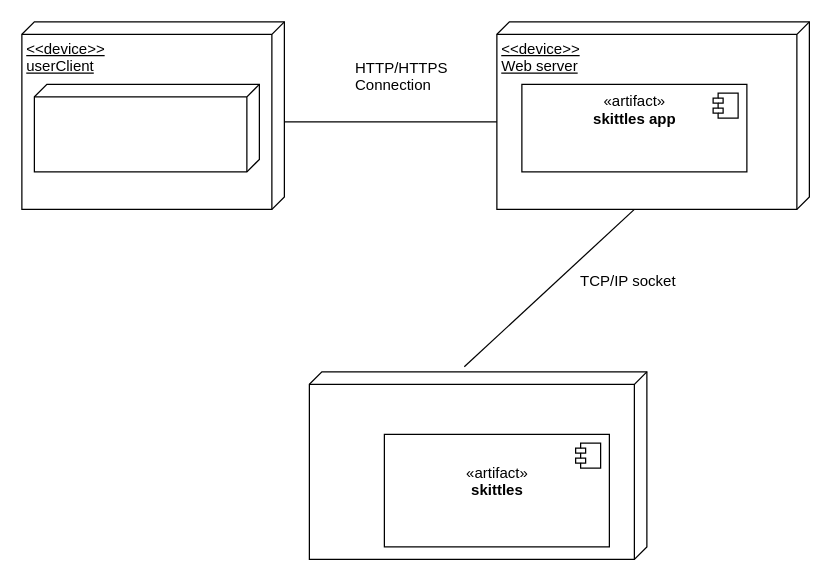
This 831x581 diagram has some shape labels left out. Each missing label, with the box of its shape:
<<device>> Firebase: (308, 371, 647, 559)
<<mobile app>> artifact xml: (33, 83, 259, 172)
